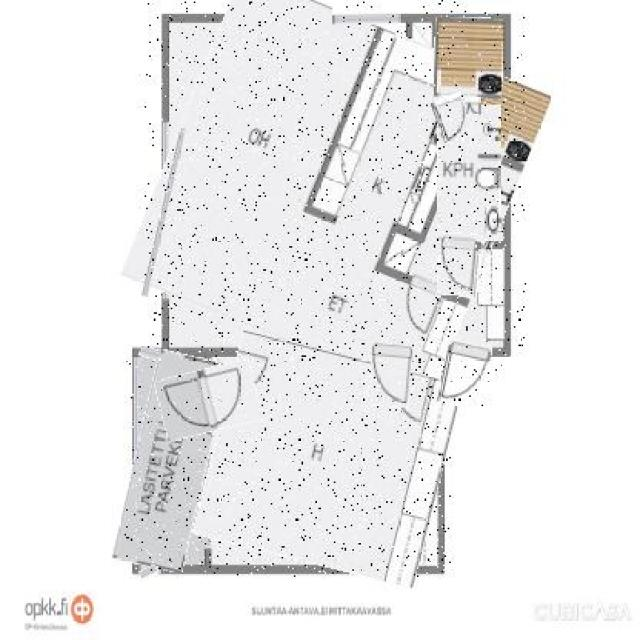door: (203, 343, 451, 577), (125, 352, 217, 571), (157, 365, 260, 437), (440, 340, 489, 408), (438, 234, 482, 297), (369, 343, 411, 408), (434, 96, 471, 142), (465, 97, 480, 114)
window: (152, 126, 177, 299), (332, 8, 400, 24), (140, 566, 158, 579), (140, 348, 160, 358)
zone: (144, 0, 526, 372), (438, 105, 500, 240), (435, 17, 503, 98)
